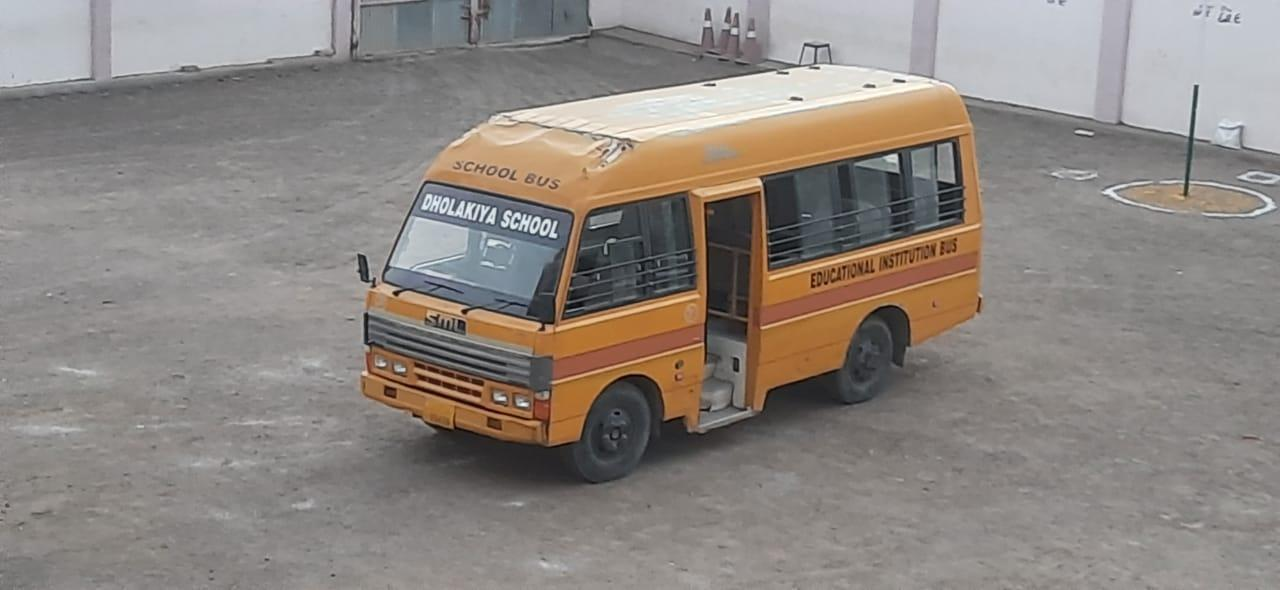Bus: (348, 52, 1009, 488)
